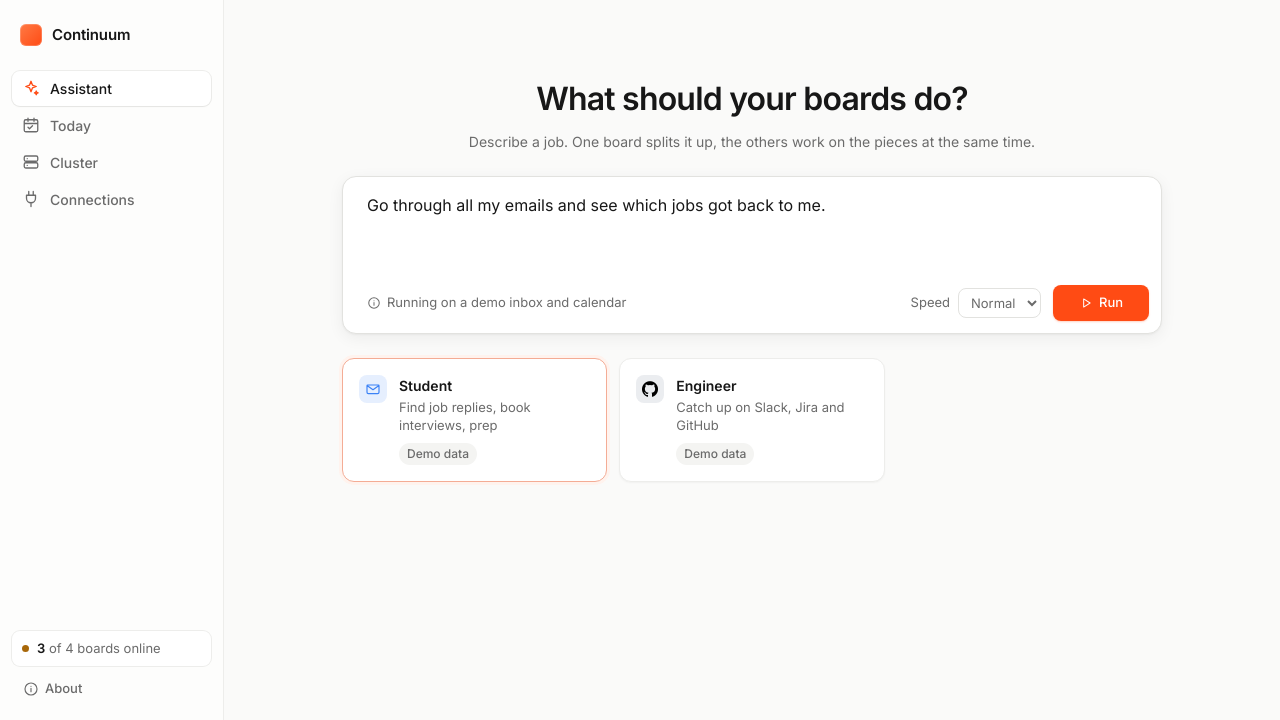
Assistant: ask › opens on an empty page asking what the boards should do, with an example job per audience, marked as demo data
The width and height of the screenshot is (1280, 720).
Expected: the heading "What should your boards do?" is shown, [536,79,968,118]
Expected: the text box named "Job" holds "Go through all my emails and see which jobs got back to me.", [343,177,1161,273]
Click the button "Engineer Catch up on Slack, Jira and GitHub Demo data" at (706, 386), box [619,358,885,482]
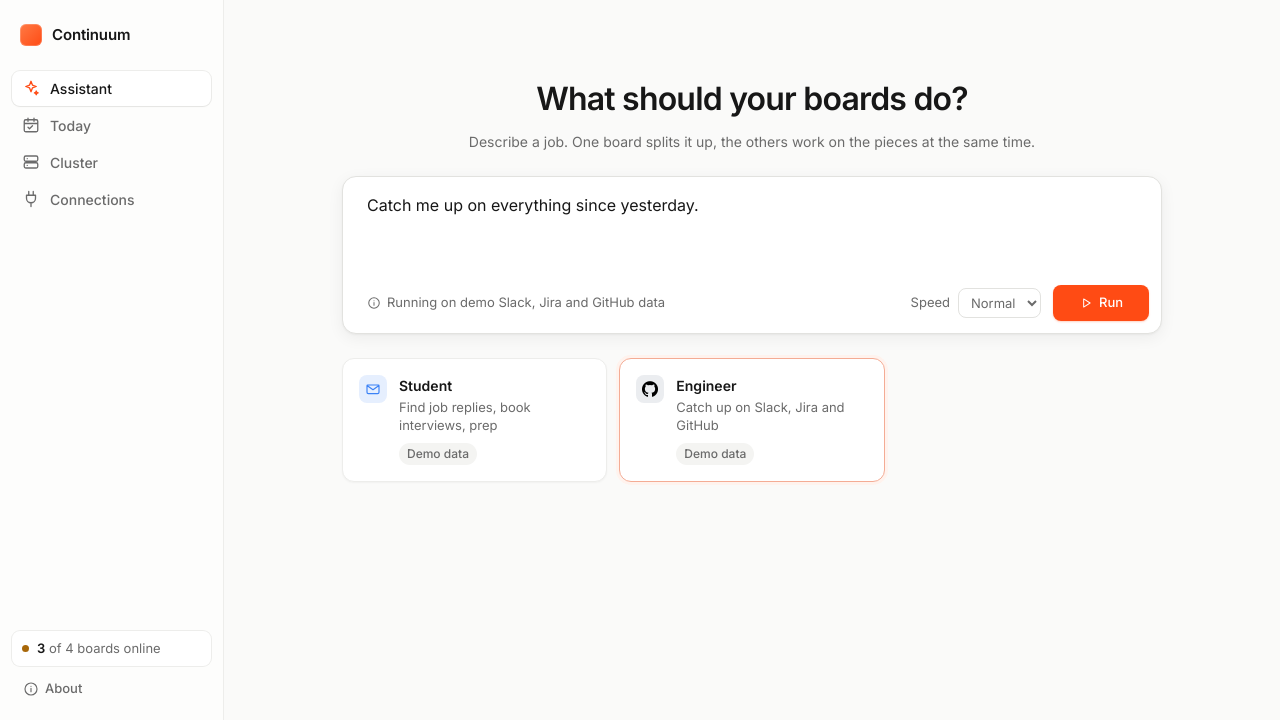
Now the text box named "Job" holds "Catch me up on everything since yesterday.", box [343,177,1161,273]
